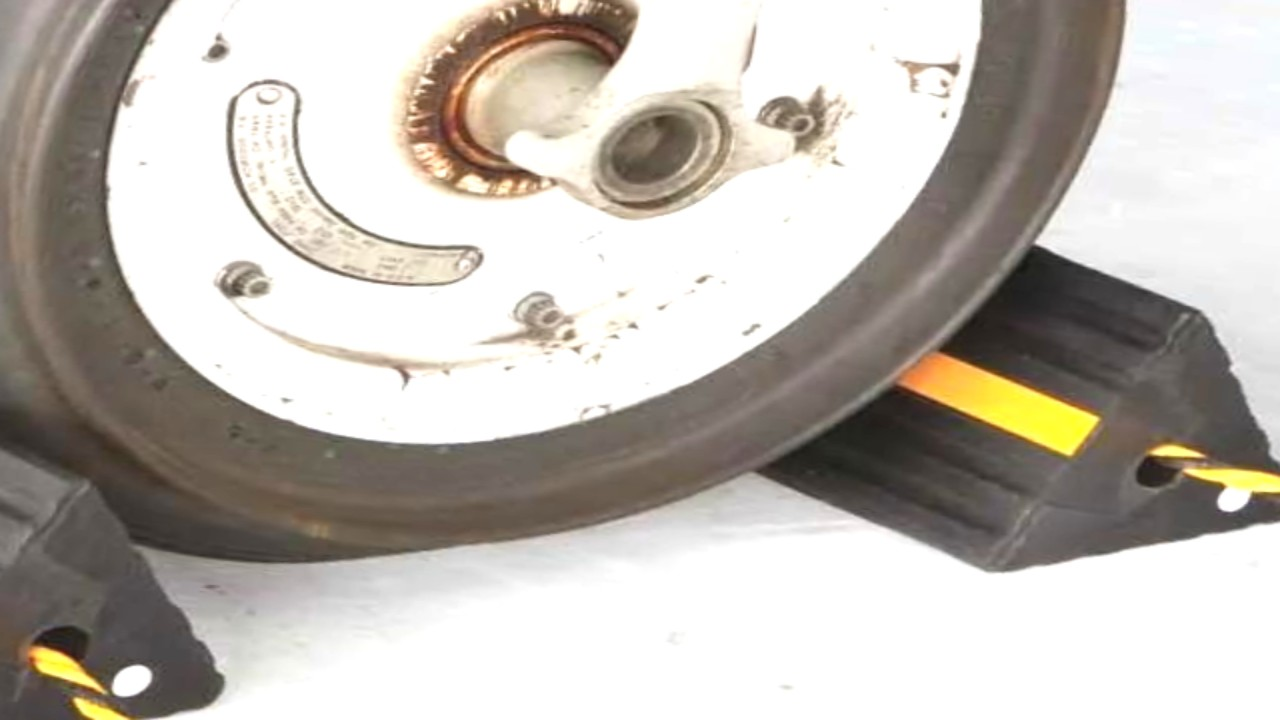chock: (388, 121, 1280, 612), (0, 209, 318, 720)
wheel: (0, 0, 1205, 624)
